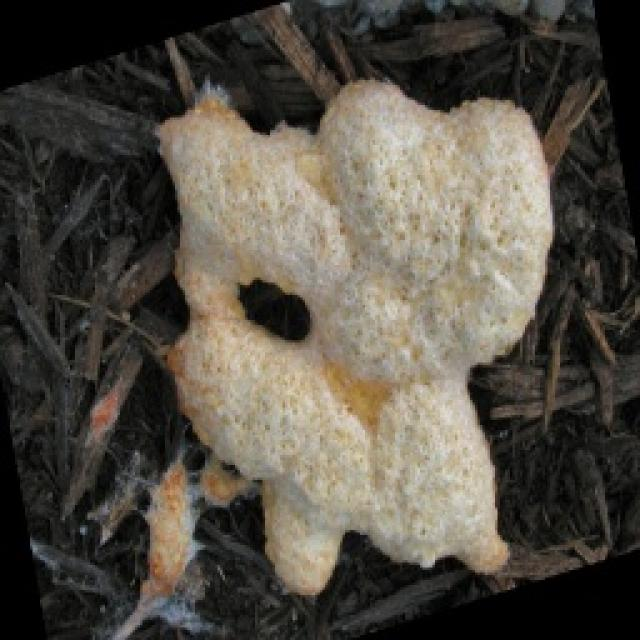Dog_vomit_slime_mold: (120, 82, 604, 615)
